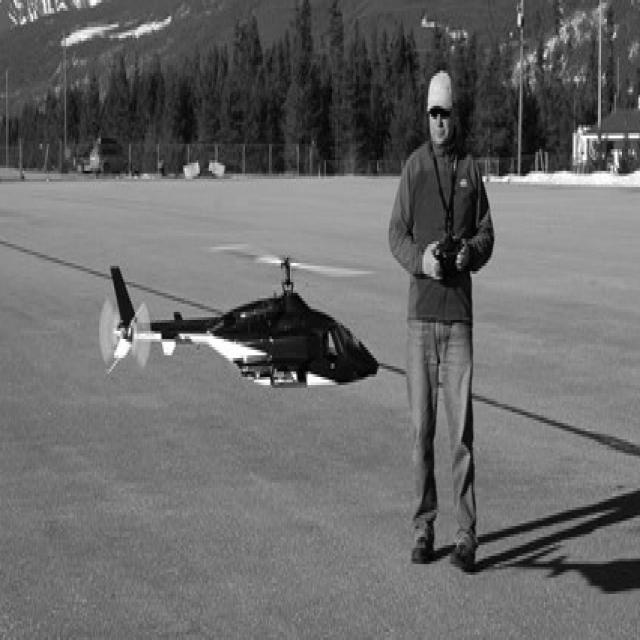helicopter: (97, 251, 375, 422)
